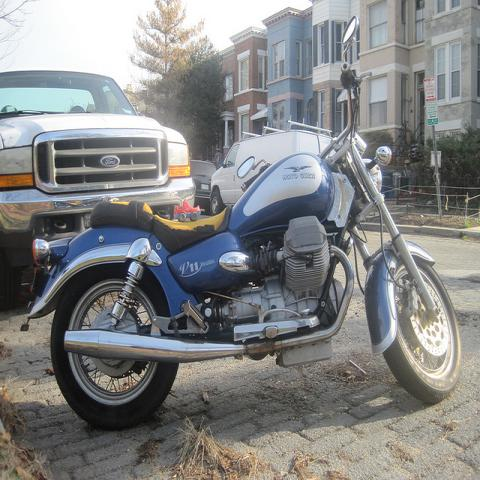car: (190, 158, 218, 213)
motorcycle: (22, 0, 465, 433)
truck: (0, 67, 199, 307), (207, 128, 331, 214)
